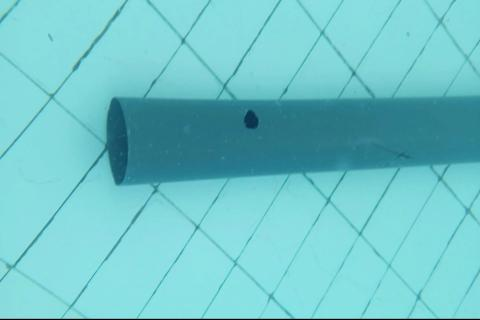kebocoran: (242, 107, 260, 130)
keretakan: (377, 143, 411, 162)
